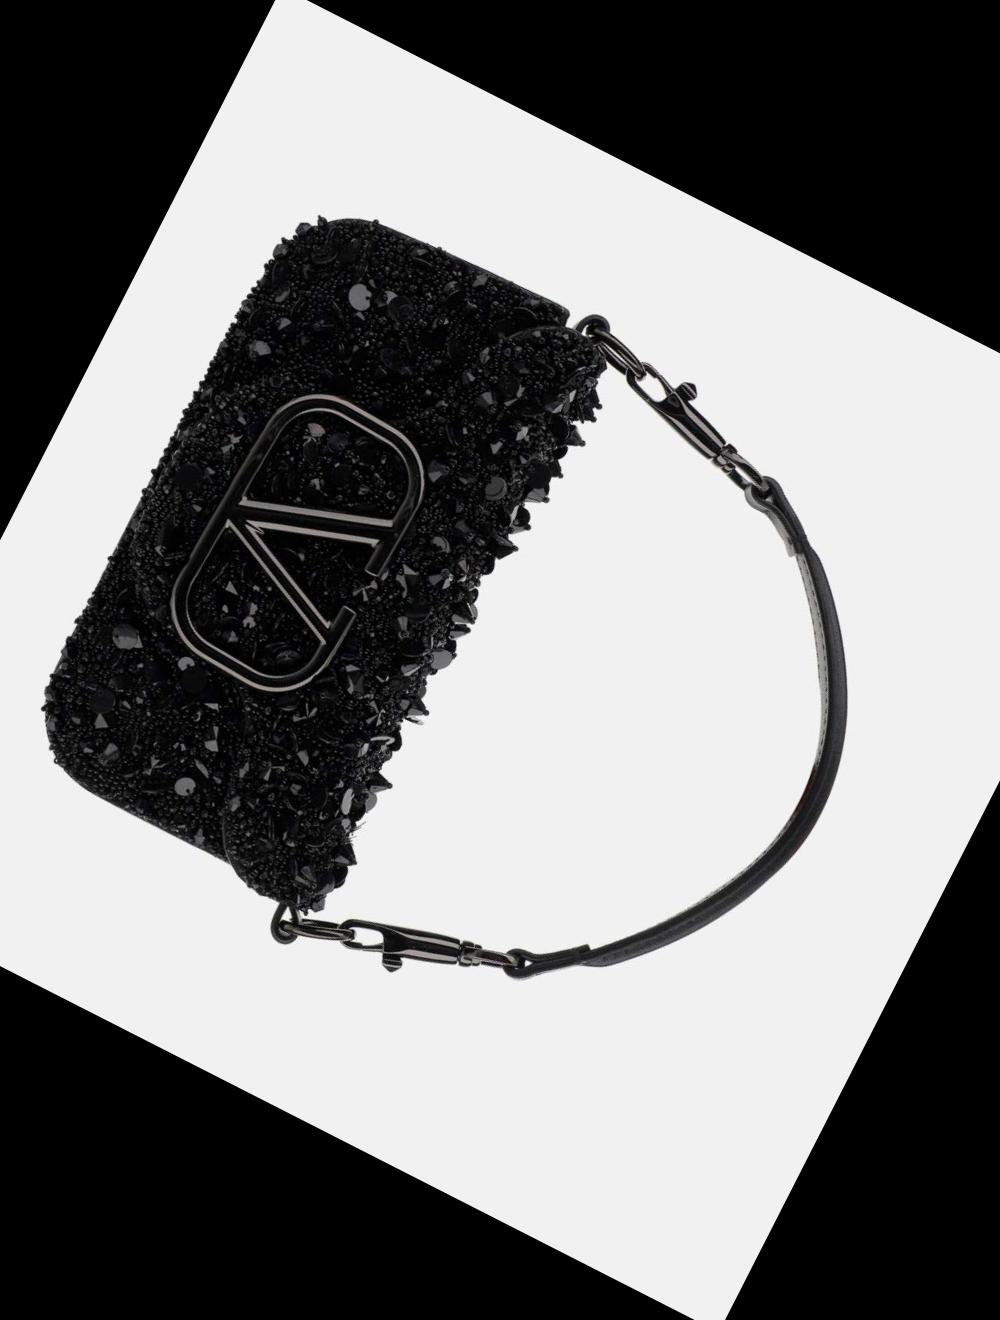VALENTINO: (147, 370, 445, 717)
